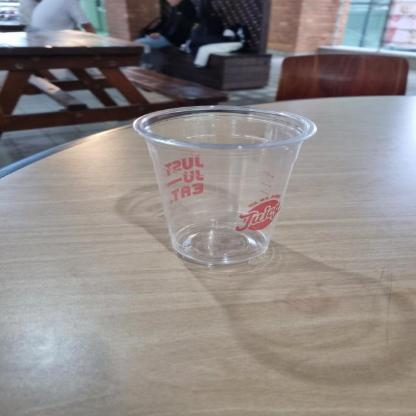Plastic Cup: (130, 103, 318, 267)
